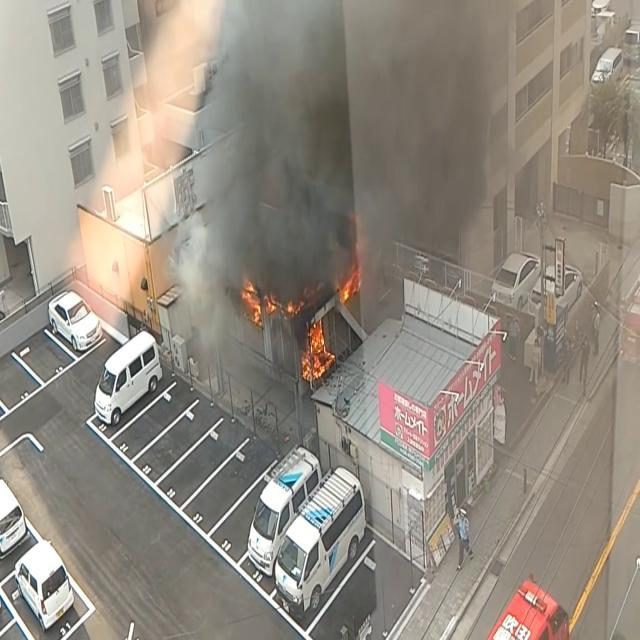Fire: (300, 308, 334, 386)
Smoke: (110, 0, 532, 319)
